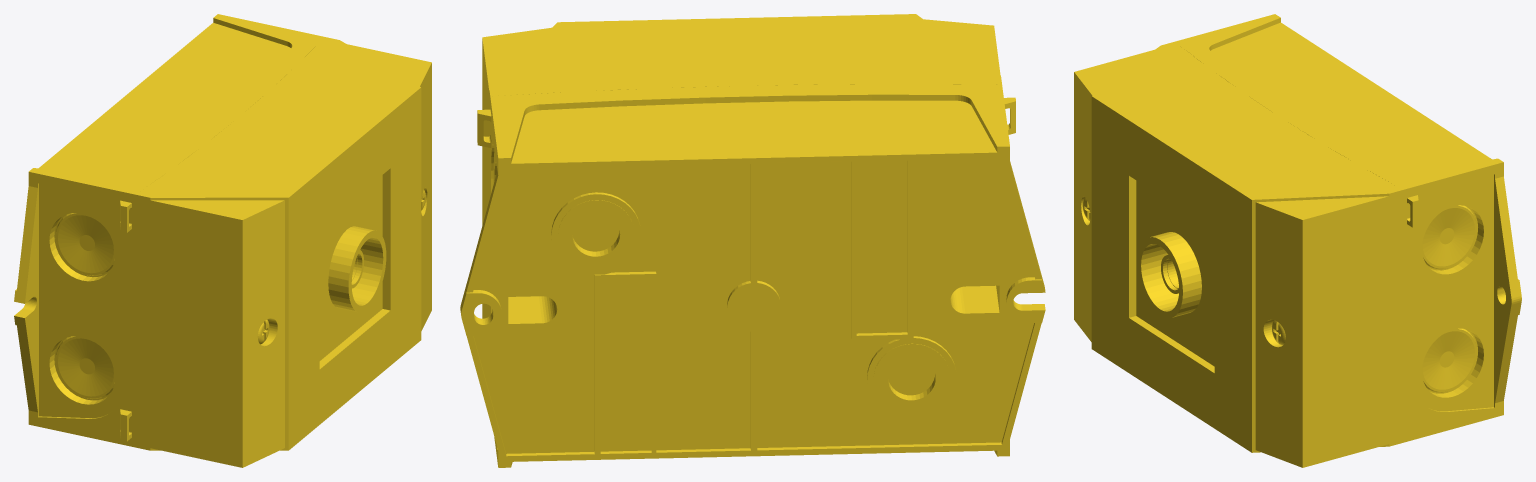
Rendered from panel_rotary_control_switch_1_fixed.glb.
3 renders of one model, left to right at view 1: azimuth 30°, elevation 25°; view 2: azimuth 150°, elevation 25°; view 3: azimuth 270°, elevation 25°, orthographic. The views are drawn at different scales.
Visible parts, largest first — view 1: rotary_control_switch_1_fixed; view 2: rotary_control_switch_1_fixed; view 3: rotary_control_switch_1_fixed.
Part boxes in pixels (bbox=[...]): rotary_control_switch_1_fixed: bbox=[14, 14, 431, 467]; rotary_control_switch_1_fixed: bbox=[460, 14, 1045, 467]; rotary_control_switch_1_fixed: bbox=[1074, 14, 1521, 467].
Size of the model in its own units: 0.1453 by 0.08 by 0.1284.
